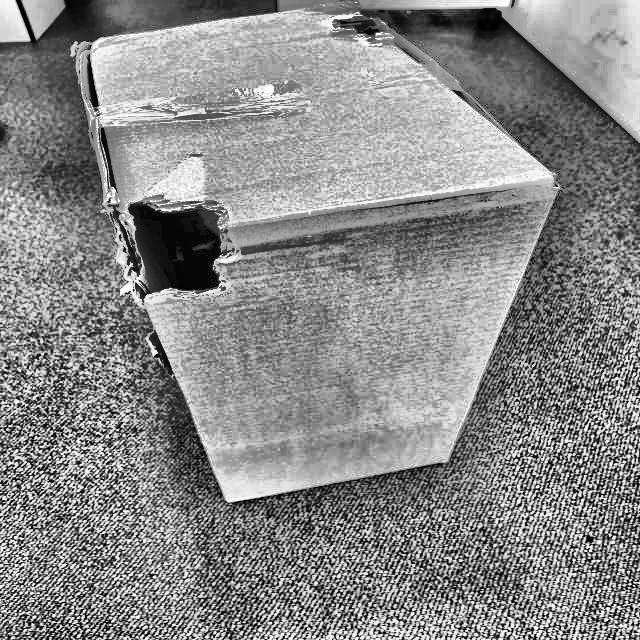box: (79, 0, 559, 503)
hole: (117, 203, 234, 297), (323, 9, 411, 56)
